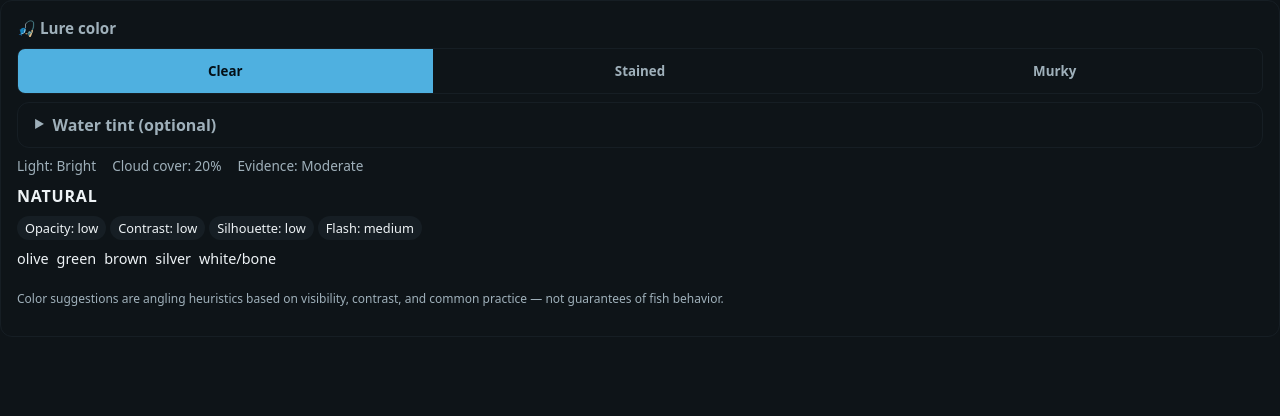
Scenario: FishingCard › water tint is collapsed and optional by default, and updates the recommendation and its own summary label when changed
Expected: the text "Evidence: Moderate" is shown, [238, 156, 363, 176]
What coordinates should you click on to do the following:
click the heading "Water tint (optional)"
I would click on:
 (134, 125)
Its box is [52, 114, 216, 136].
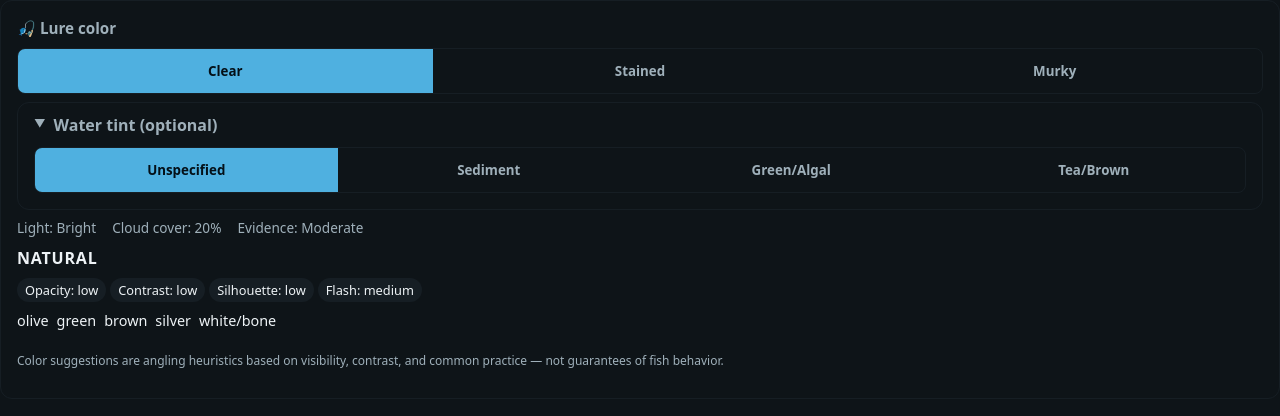
What coordinates should you click on to do the following:
click the radio button labelled "Sediment"
I would click on:
 (489, 170)
Its box is [338, 148, 640, 192].
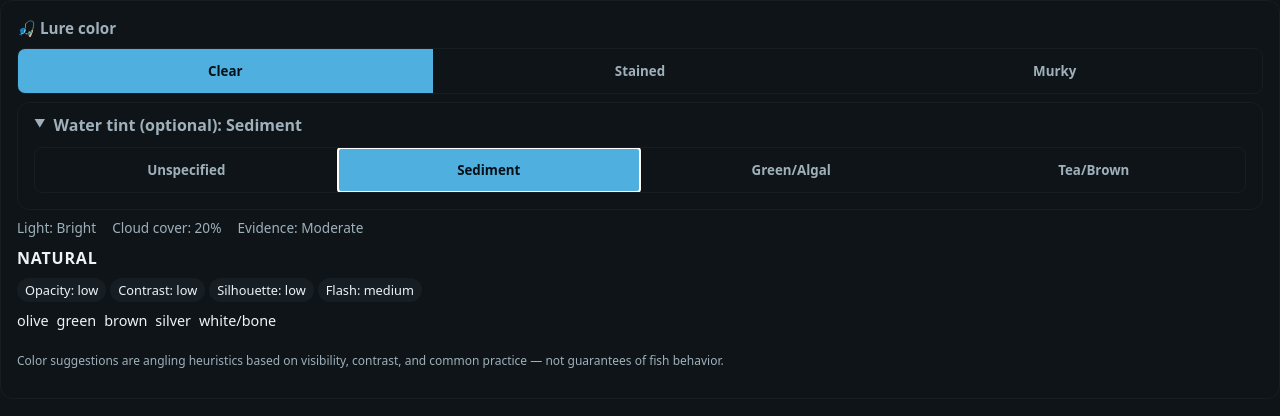
Expected: the heading "Water tint (optional): Sediment" is shown, [54, 114, 302, 136]
